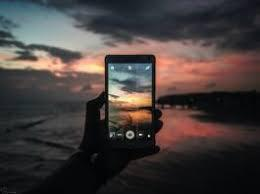Hand: (79, 92, 165, 164)
Smartphone: (104, 53, 157, 150)
